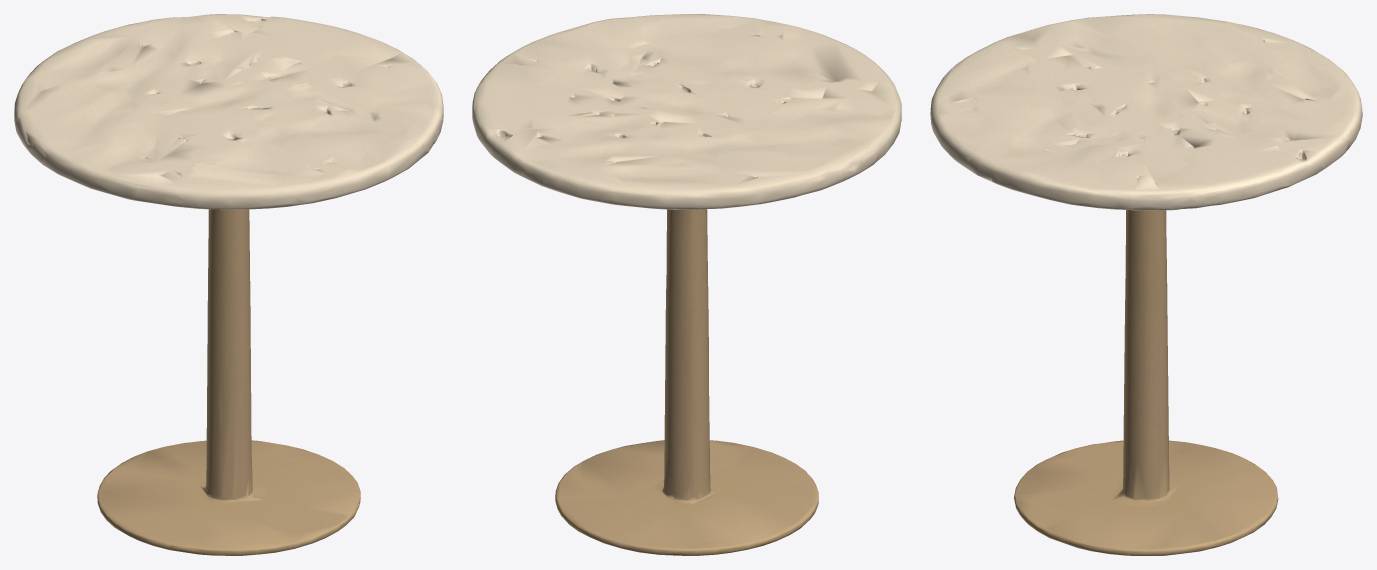
The model's file is cafetable.glb.
The picture shows the model from 3 angles, left to right: view 1: azimuth 30°, elevation 25°; view 2: azimuth 150°, elevation 25°; view 3: azimuth 270°, elevation 25°; orthographic projection.
Visible parts, largest first — view 1: tripo_node_3c3d4659-8a66-43ce-8b4d-4d35e86db970; view 2: tripo_node_3c3d4659-8a66-43ce-8b4d-4d35e86db970; view 3: tripo_node_3c3d4659-8a66-43ce-8b4d-4d35e86db970.
Boxes of the visible parts, bbox=[...] form: tripo_node_3c3d4659-8a66-43ce-8b4d-4d35e86db970: bbox=[14, 14, 443, 555]; tripo_node_3c3d4659-8a66-43ce-8b4d-4d35e86db970: bbox=[472, 14, 901, 555]; tripo_node_3c3d4659-8a66-43ce-8b4d-4d35e86db970: bbox=[930, 14, 1362, 555].
Size of the model in its own units: 0.636 by 0.6499 by 0.6352.
1 material, 1 textured.
